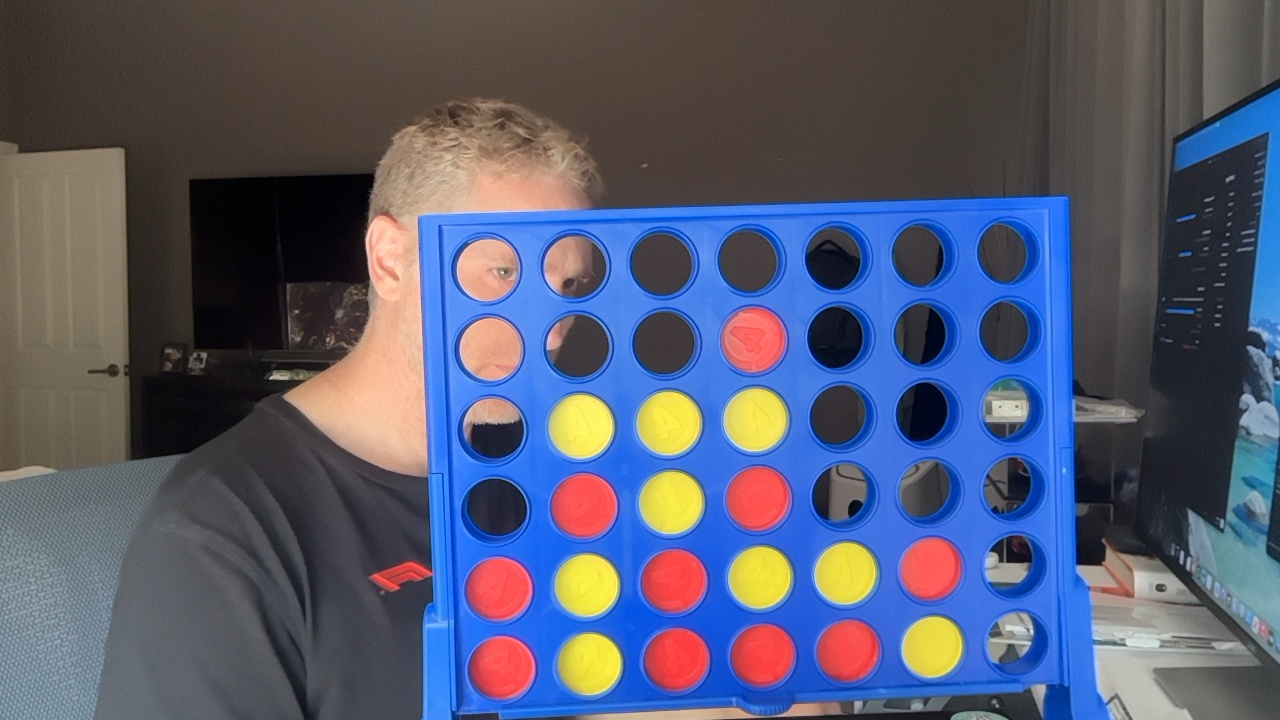red piece: (550, 473, 616, 539), (721, 306, 785, 372), (640, 549, 706, 613), (643, 628, 709, 692), (465, 557, 531, 621), (468, 636, 534, 700), (726, 466, 790, 531), (730, 624, 794, 688), (816, 620, 880, 682), (899, 537, 961, 600)
yellow piece: (548, 393, 614, 459), (636, 390, 701, 456), (638, 470, 704, 535), (723, 387, 788, 452), (554, 553, 619, 618), (557, 632, 621, 697), (728, 546, 792, 610), (814, 541, 877, 606), (902, 616, 963, 678)
